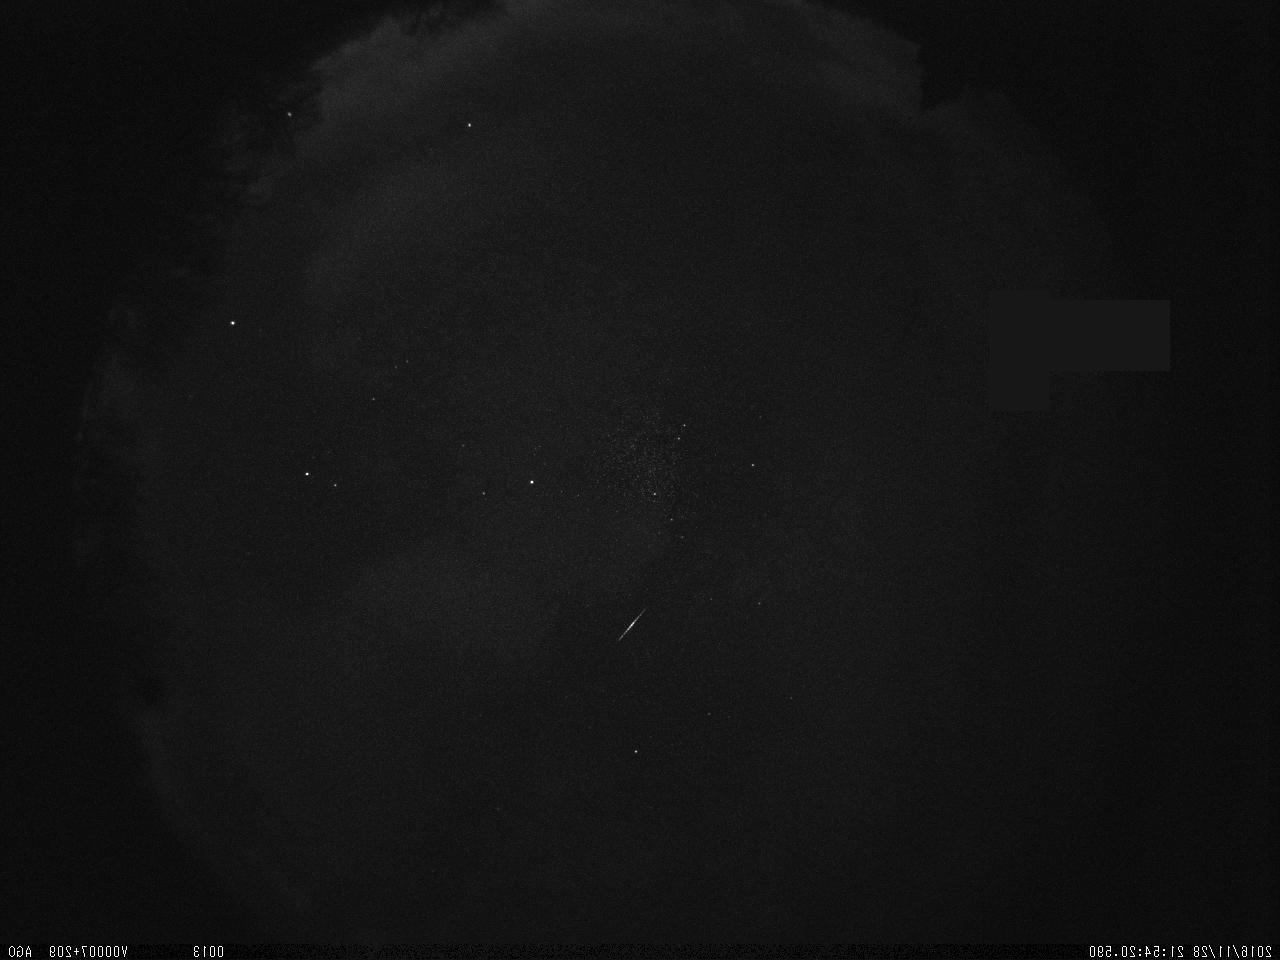meteor: (608, 604, 654, 652)
